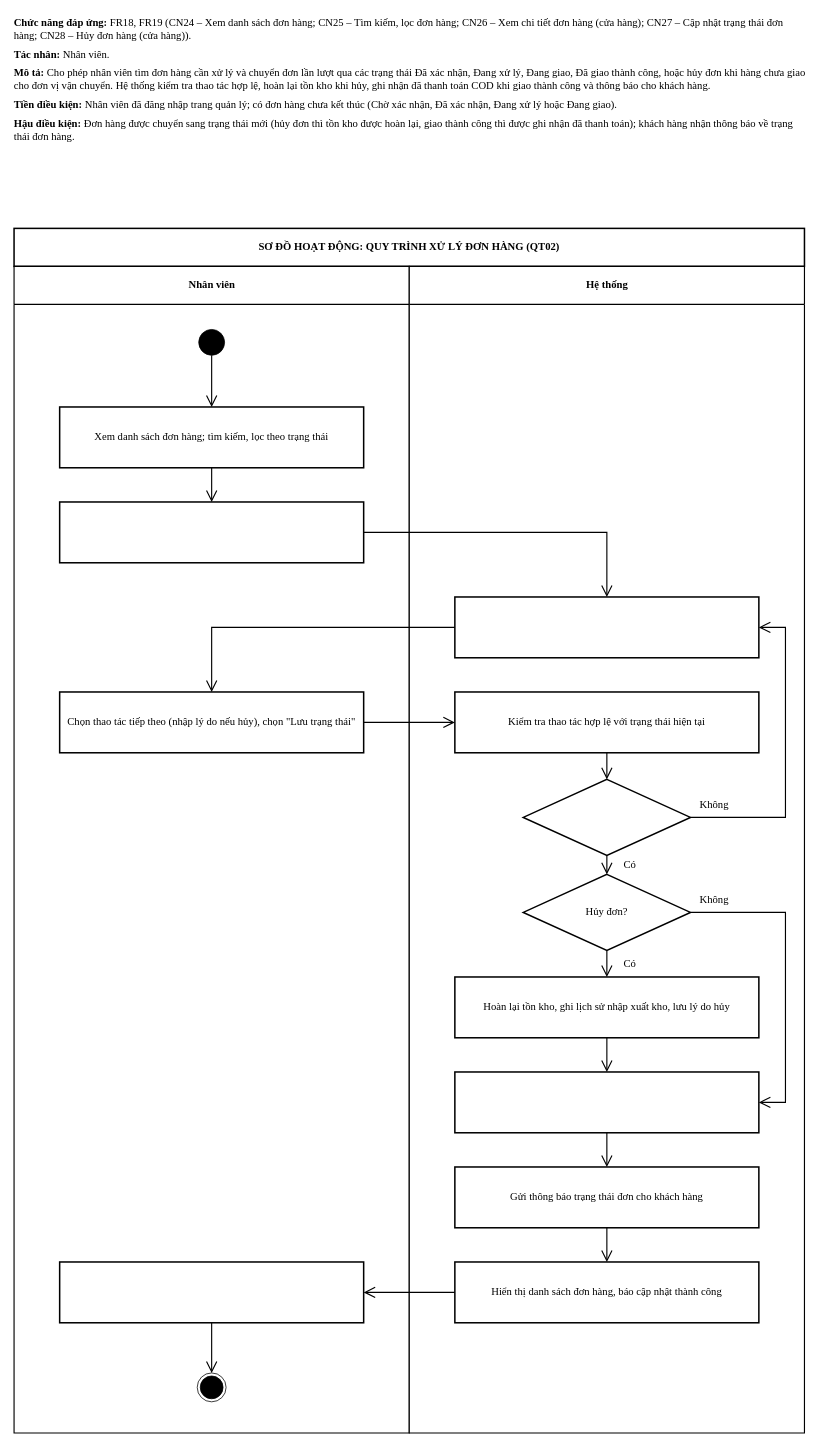
Some shapes in this 819 by 1446 pixel diagram are drawn without their labels. The shapes that lost their labels are listed below. From the top down, each one's centre as x and y in pixels, then its label:
the point at 211,532: Chọn đơn hàng cần xử lý
the point at 606,627: Hiển thị chi tiết đơn hàng và các thao tác được phép
the point at 606,817: Thao tác hợp lệ?
the point at 606,1102: Cập nhật trạng thái đơn; giao thành công thì ghi nhận đã thanh toán
the point at 211,1292: Xem đơn hàng ở trạng thái mới
